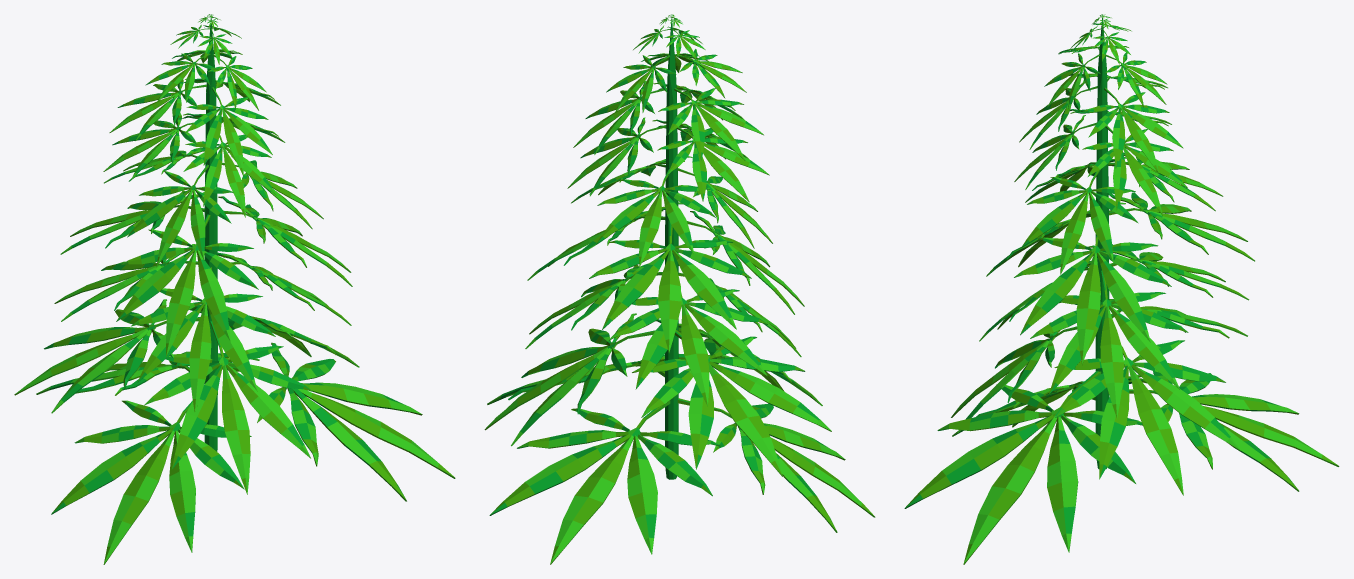
The model's file is трава2.fbx.
The picture shows the model from 3 angles, left to right: view 1: azimuth 30°, elevation 25°; view 2: azimuth 150°, elevation 25°; view 3: azimuth 270°, elevation 25°; orthographic projection. The views are drawn at different scales.
Parts seen in each view (by area): view 1: трава; view 2: трава; view 3: трава.
Boxes of the visible parts, bbox=[...] form: трава: bbox=[14, 14, 455, 564]; трава: bbox=[484, 14, 875, 564]; трава: bbox=[904, 14, 1339, 564].
Bounding box in the file's own units: 35.39 × 45.84 × 37.04.
